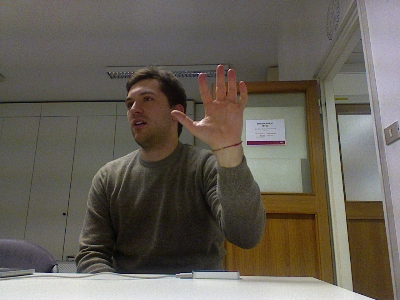布: (168, 61, 250, 149)
